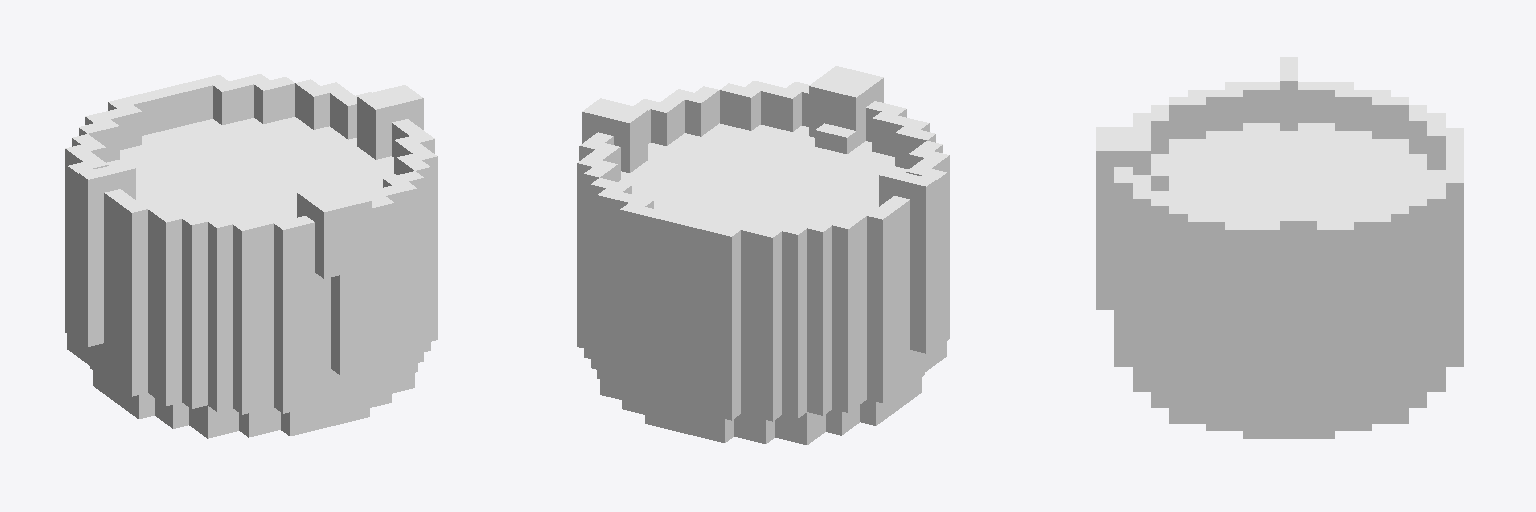
File: coin_miele.obj
The picture shows the model from 3 angles: view 1: azimuth 30°, elevation 25°; view 2: azimuth 150°, elevation 25°; view 3: azimuth 270°, elevation 25°; orthographic projection.
Bounding box in the file's own units: 21 × 14 × 20.